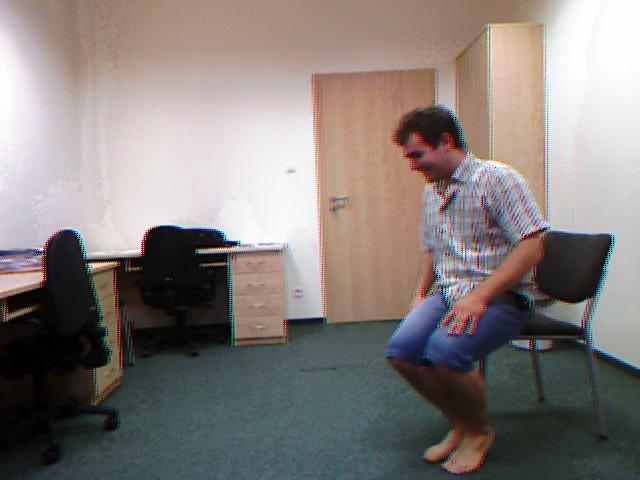near-fall: (379, 86, 554, 480)
